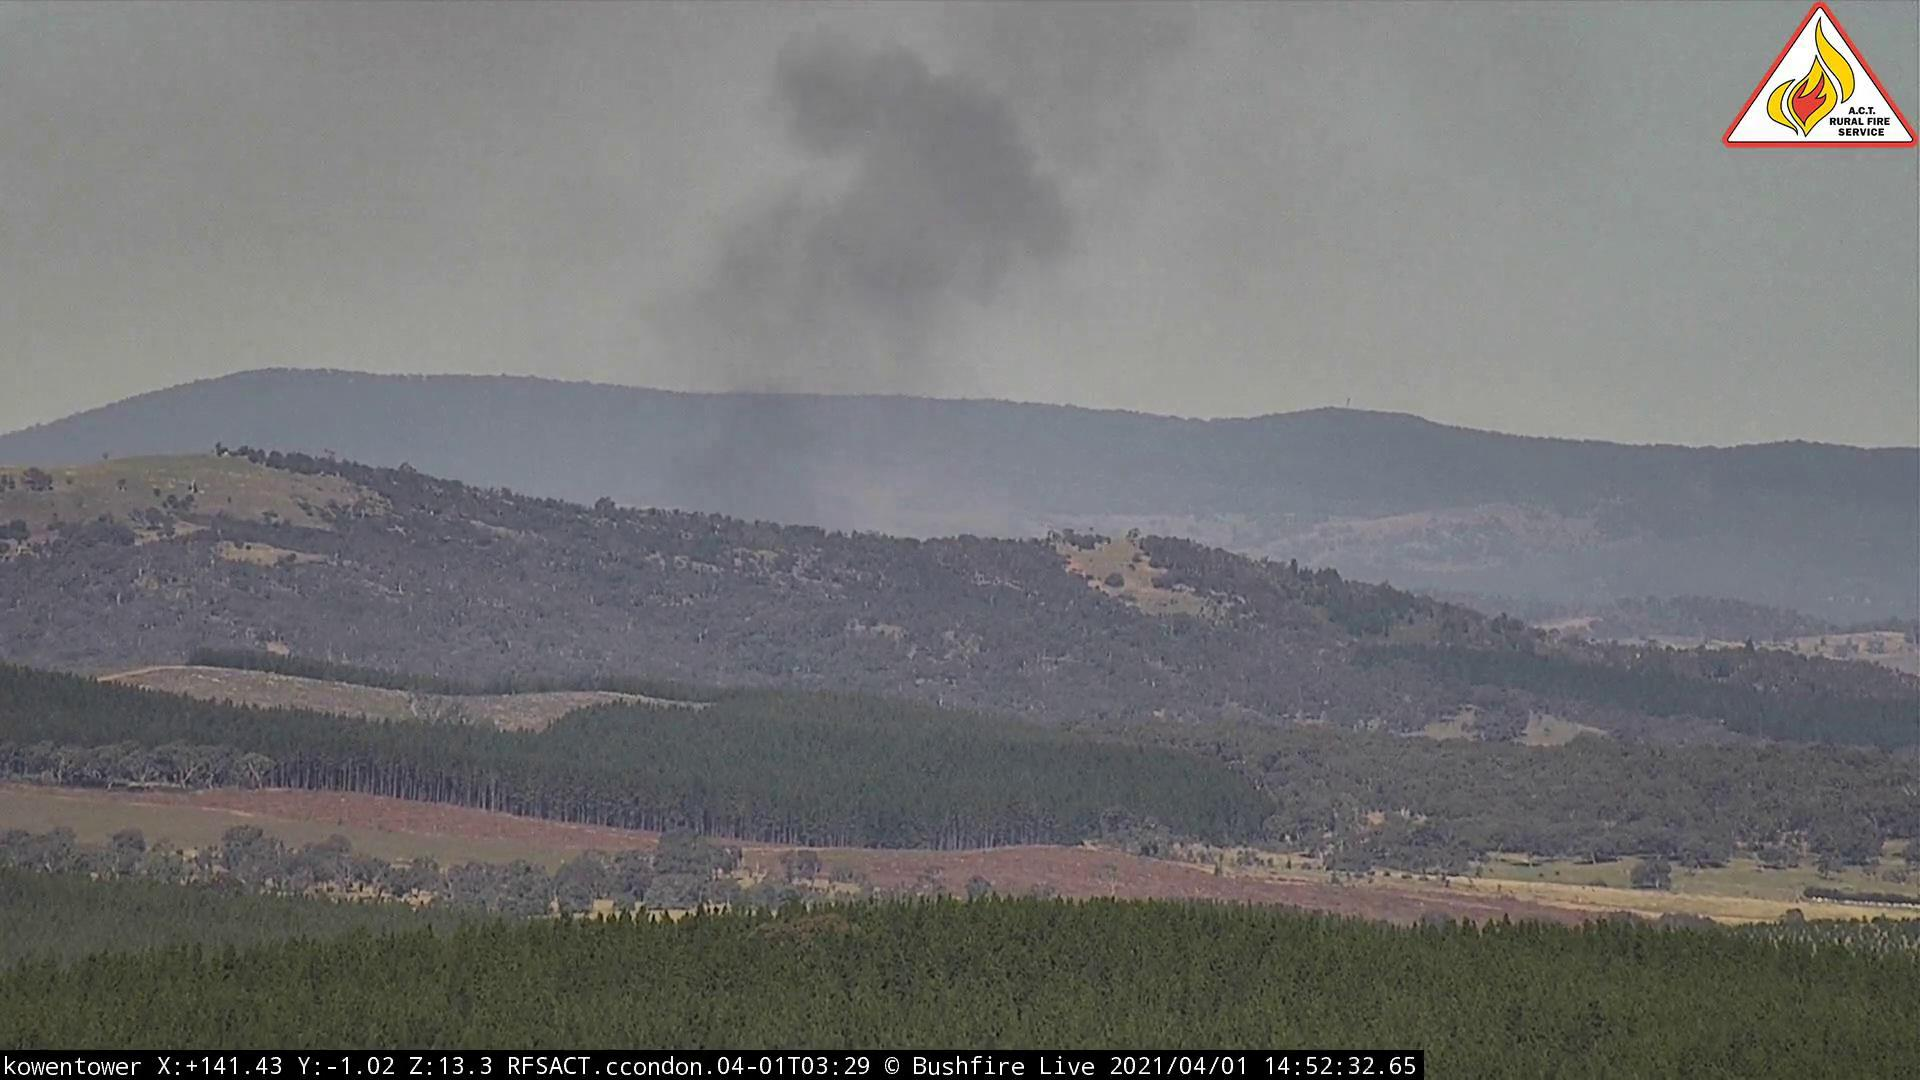Smoke: (579, 3, 1212, 509)
